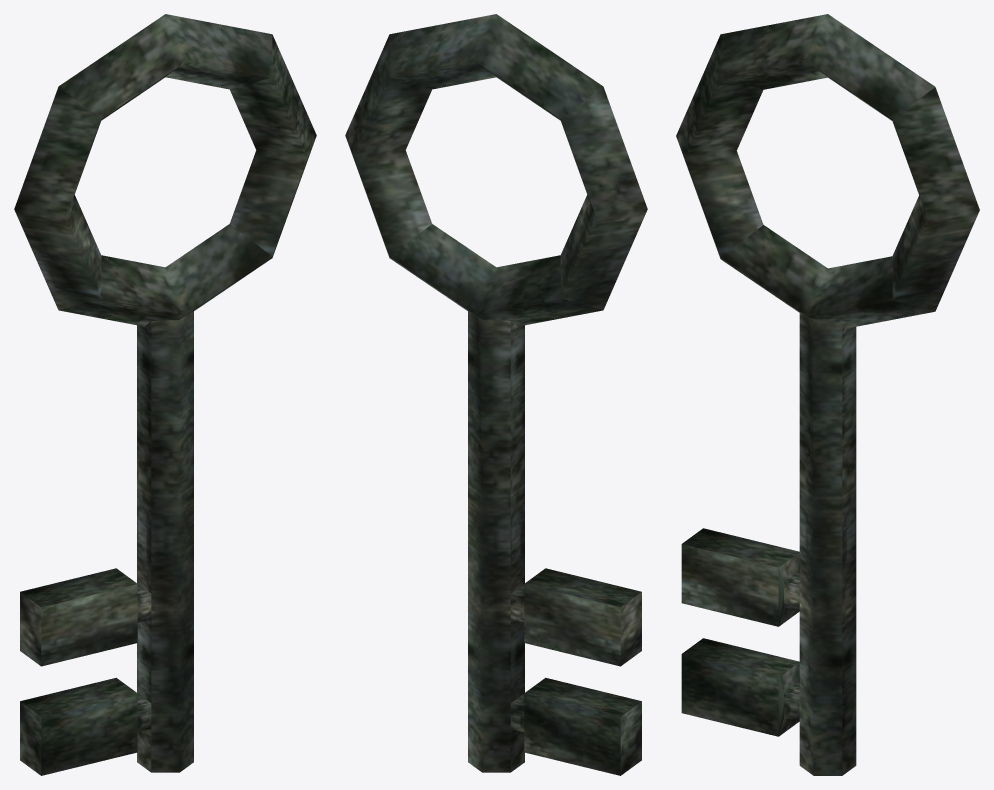
The model's file is NewKey.glb.
3 renders of one model, left to right at view 1: azimuth 30°, elevation 25°; view 2: azimuth 150°, elevation 25°; view 3: azimuth 330°, elevation 25°, orthographic.
Visible parts, largest first — view 1: Cylinder; view 2: Cylinder; view 3: Cylinder.
Part boxes in pixels (x1,y1,x2,y2): Cylinder: [14, 14, 316, 775]; Cylinder: [345, 14, 647, 775]; Cylinder: [676, 14, 979, 775].
Size of the model in its own units: 0.5309 by 1.25 by 0.1283.
1 material, 1 textured.
